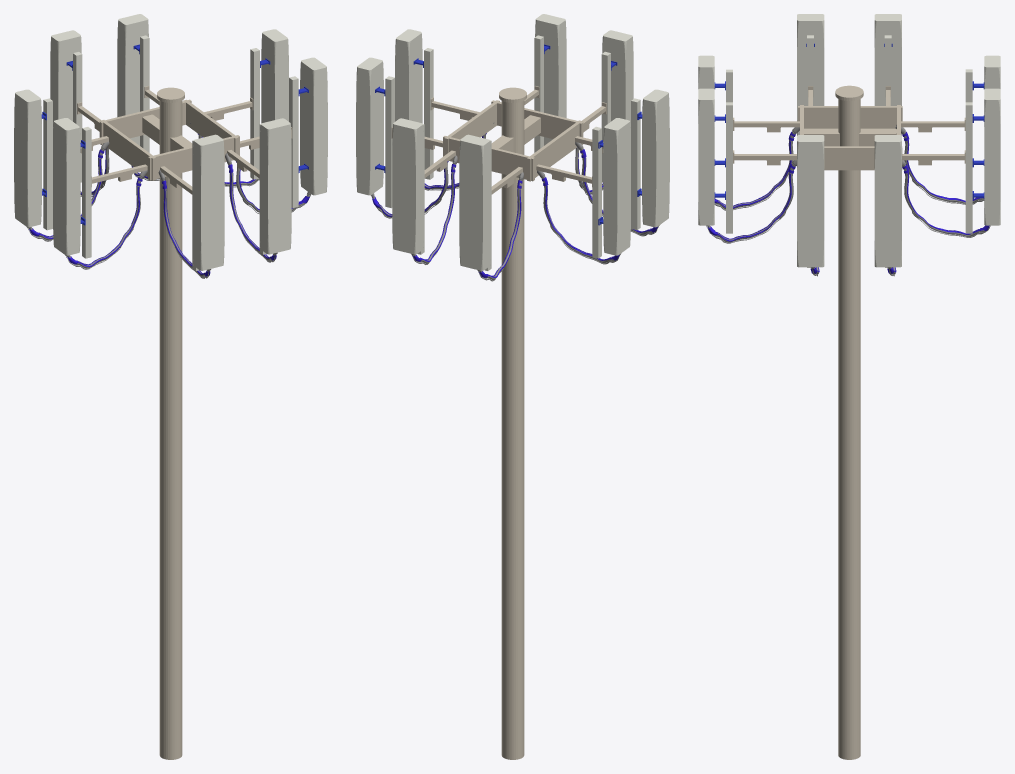
The model's file is station.fbx.
3 views of the same model, side by side, from view 1: azimuth 30°, elevation 25°; view 2: azimuth 150°, elevation 25°; view 3: azimuth 270°, elevation 25° (orthographic).
Visible parts, largest first — view 1: 柱体, 立方体.005, 立方体.011, 立方体.041, 立方体.047, 立方体.029, 立方体.017, 立方体.035, 立方体.023, 立方体.056, 立方体.055, 立方体 (+7 smaller); view 2: 柱体, 立方体.023, 立方体.017, 立方体.047, 立方体.041, 立方体.035, 立方体.011, 立方体.029, 立方体.005, 立方体.055, 立方体.056, 立方体 (+7 smaller); view 3: 柱体, 立方体.029, 立方体.035, 立方体.011, 立方体.017, 立方体.041, 立方体.047, 立方体, 立方体.003, 立方体.002, 立方体.060, 立方体.005 (+4 smaller).
Part boxes in pixels (x1=…): 柱体: x1=142, y1=101, x2=192, y2=759; 立方体.005: x1=192, y1=134, x2=224, y2=270; 立方体.011: x1=260, y1=118, x2=291, y2=254; 立方体.041: x1=14, y1=89, x2=41, y2=227; 立方体.047: x1=53, y1=118, x2=80, y2=255; 立方体.029: x1=300, y1=57, x2=327, y2=195; 立方体.017: x1=117, y1=14, x2=148, y2=145; 立方体.035: x1=261, y1=29, x2=288, y2=123; 立方体.023: x1=50, y1=30, x2=81, y2=137; 立方体.056: x1=81, y1=127, x2=91, y2=258; 立方体.055: x1=43, y1=98, x2=52, y2=230; 立方体: x1=100, y1=120, x2=155, y2=180; 柱体: x1=491, y1=101, x2=540, y2=759; 立方体.023: x1=459, y1=134, x2=491, y2=270; 立方体.017: x1=392, y1=118, x2=423, y2=254; 立方体.047: x1=642, y1=89, x2=669, y2=227; 立方体.041: x1=603, y1=118, x2=630, y2=255; 立方体.035: x1=356, y1=57, x2=383, y2=195; 立方体.011: x1=535, y1=14, x2=566, y2=145; 立方体.029: x1=395, y1=29, x2=422, y2=123; 立方体.005: x1=602, y1=30, x2=633, y2=137; 立方体.055: x1=592, y1=126, x2=601, y2=258; 立方体.056: x1=631, y1=98, x2=640, y2=230; 立方体: x1=527, y1=120, x2=582, y2=181; 柱体: x1=804, y1=99, x2=896, y2=759; 立方体.029: x1=797, y1=135, x2=824, y2=267; 立方体.035: x1=874, y1=135, x2=901, y2=267; 立方体.011: x1=698, y1=88, x2=714, y2=225; 立方体.017: x1=984, y1=88, x2=1000, y2=225; 立方体.041: x1=874, y1=14, x2=901, y2=135; 立方体.047: x1=797, y1=14, x2=824, y2=135; 立方体: x1=798, y1=106, x2=902, y2=128; 立方体.003: x1=824, y1=146, x2=902, y2=170; 立方体.002: x1=965, y1=102, x2=972, y2=233; 立方体.060: x1=726, y1=102, x2=732, y2=233; 立方体.005: x1=698, y1=55, x2=714, y2=88.
Bounding box in the file's own units: 506 × 1251 × 506.
